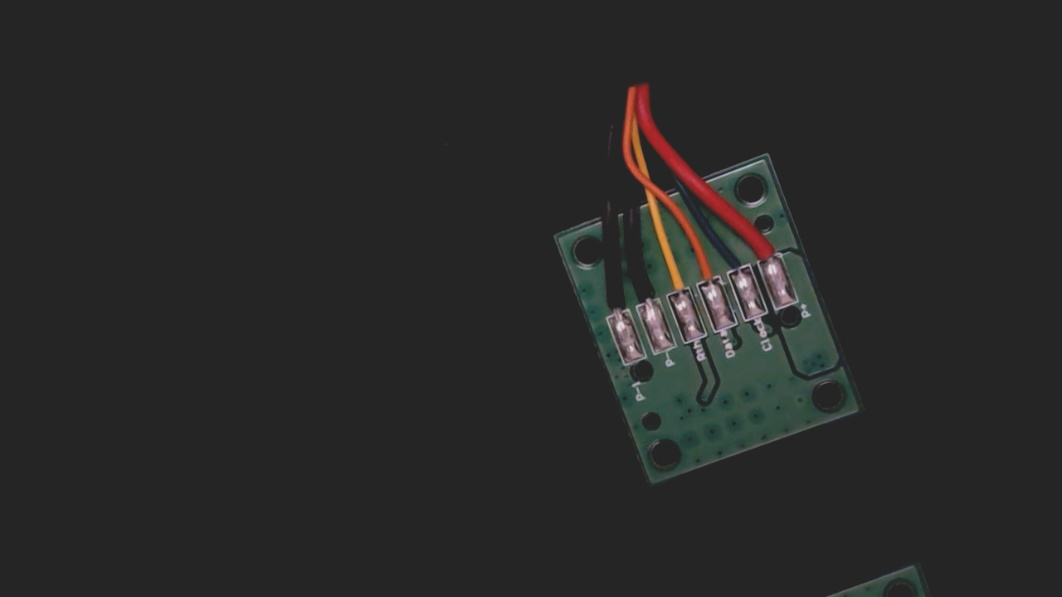Black: (623, 263, 666, 320)
Black1: (592, 274, 635, 330)
Green: (717, 238, 757, 286)
Orange: (688, 247, 727, 296)
Red: (748, 228, 788, 275)
Yellow: (653, 256, 698, 309)
